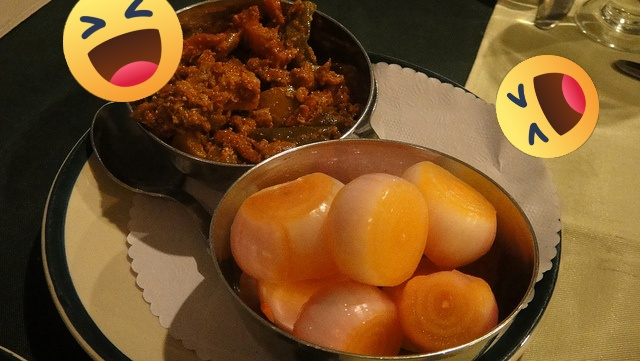haha: (63, 0, 183, 102), (496, 55, 599, 158)
